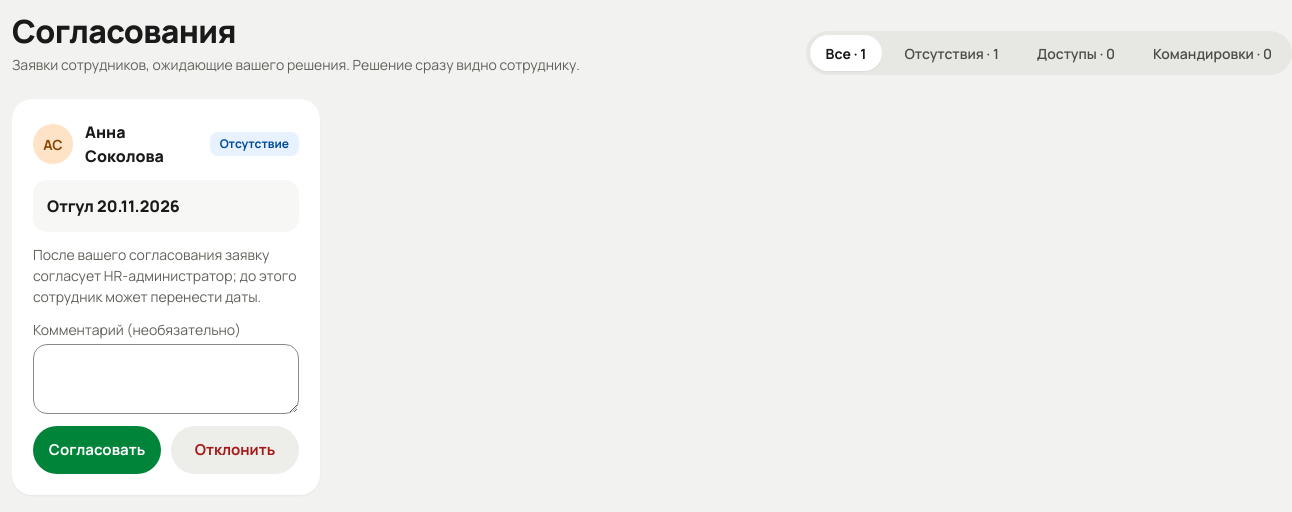
Test: S3 step 8: manager approvals page › filter by request type and the hint about what happens after the decision
Expected: the text "заявку согласует HR-администратор" is shown, x1=33 y1=245 x2=296 y2=306
Click the button "Командировки · 0" at (1213, 53), box x1=1137 y1=35 x2=1288 y2=71
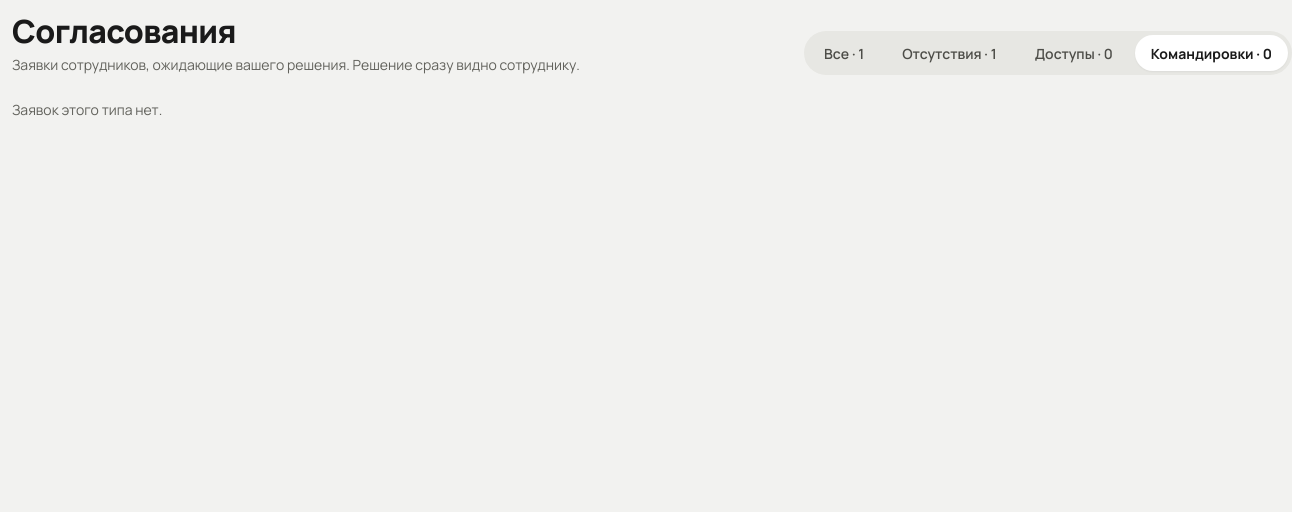
Expected: the text "Заявок этого типа нет." is shown, x1=12 y1=100 x2=162 y2=119
Click the button "Отсутствия · 1" at (949, 53), box x1=886 y1=35 x2=1013 y2=71
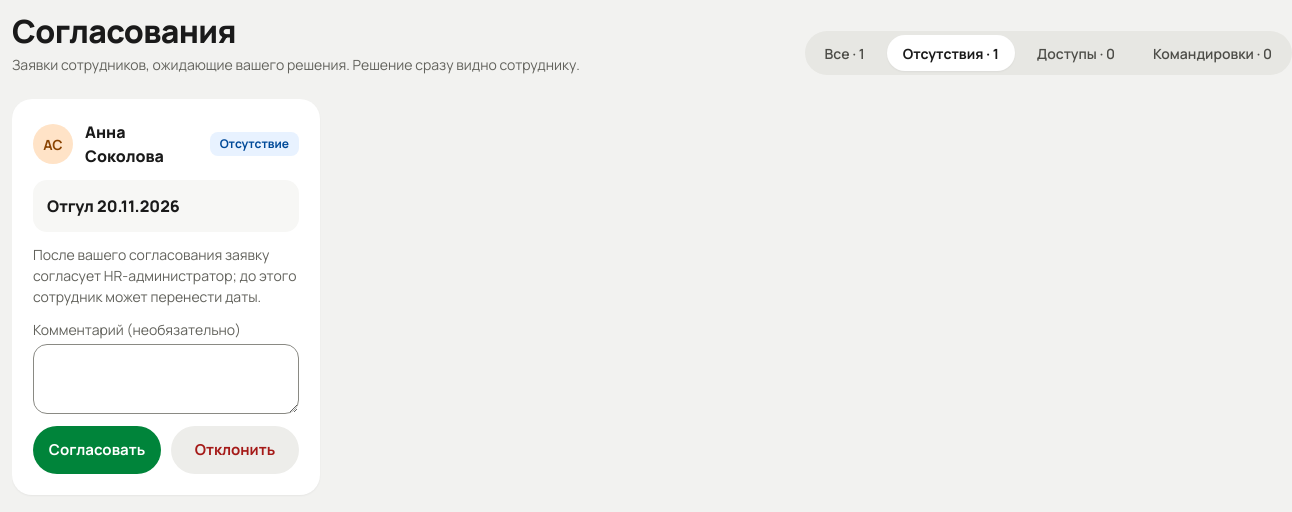
Expected: the element named "Заявка: Анна Соколова" is shown, x1=12 y1=99 x2=320 y2=495
